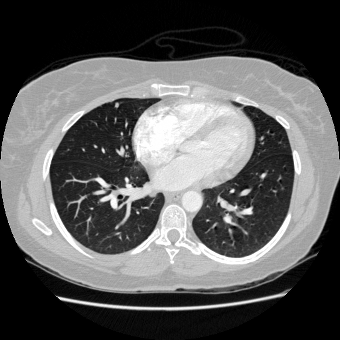nodule: (114, 103, 118, 107)
